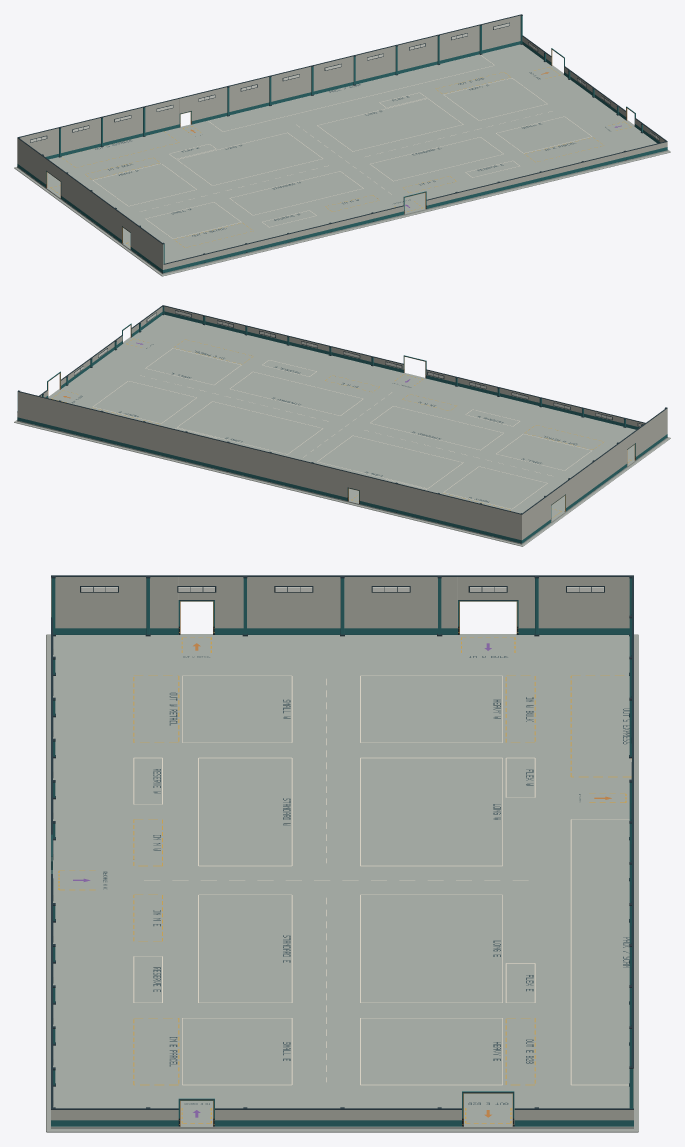
The model's file is environment-markings-fixture.glb.
The picture shows the model from 3 angles, top to bottom: view 1: azimuth 30°, elevation 25°; view 2: azimuth 150°, elevation 25°; view 3: azimuth 270°, elevation 25°; orthographic projection. The views are drawn at different scales.
Parts seen in each view (by area): view 1: environment-markings-fixture__batch_06, environment-markings-fixture__batch_04, environment-markings-fixture__batch_05, environment-markings-fixture__batch_01, environment-markings-fixture__batch_03, environment-markings-fixture__batch_02; view 2: environment-markings-fixture__batch_06, environment-markings-fixture__batch_04, environment-markings-fixture__batch_05, environment-markings-fixture__batch_03, environment-markings-fixture__batch_02; view 3: environment-markings-fixture__batch_06, environment-markings-fixture__batch_04, environment-markings-fixture__batch_05, environment-markings-fixture__batch_01, environment-markings-fixture__batch_02, environment-markings-fixture__batch_03.
Boxes of the visible parts, x1,y1,x2,y2 form: environment-markings-fixture__batch_06: [17, 44, 667, 274]; environment-markings-fixture__batch_04: [17, 14, 667, 273]; environment-markings-fixture__batch_05: [14, 65, 670, 276]; environment-markings-fixture__batch_01: [59, 16, 642, 263]; environment-markings-fixture__batch_03: [30, 23, 659, 142]; environment-markings-fixture__batch_02: [30, 22, 659, 142]; environment-markings-fixture__batch_06: [17, 314, 667, 544]; environment-markings-fixture__batch_04: [17, 305, 667, 543]; environment-markings-fixture__batch_05: [14, 337, 670, 546]; environment-markings-fixture__batch_03: [74, 311, 641, 426]; environment-markings-fixture__batch_02: [74, 310, 643, 426]; environment-markings-fixture__batch_06: [51, 634, 633, 1128]; environment-markings-fixture__batch_04: [51, 575, 633, 1126]; environment-markings-fixture__batch_05: [46, 634, 638, 1132]; environment-markings-fixture__batch_01: [51, 578, 633, 1108]; environment-markings-fixture__batch_02: [53, 586, 631, 1106]; environment-markings-fixture__batch_03: [81, 587, 603, 591].
Size of the model in its own units: 145 by 8.55 by 73.2.
